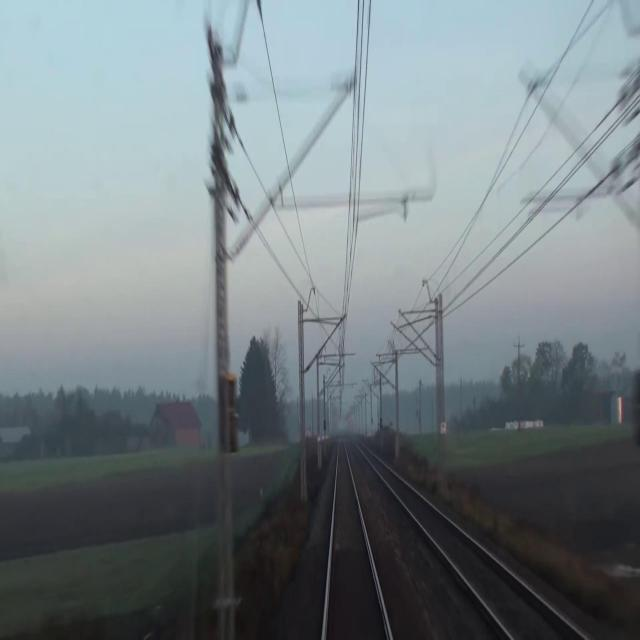rail-track: (376, 463, 578, 639), (326, 443, 387, 639)
